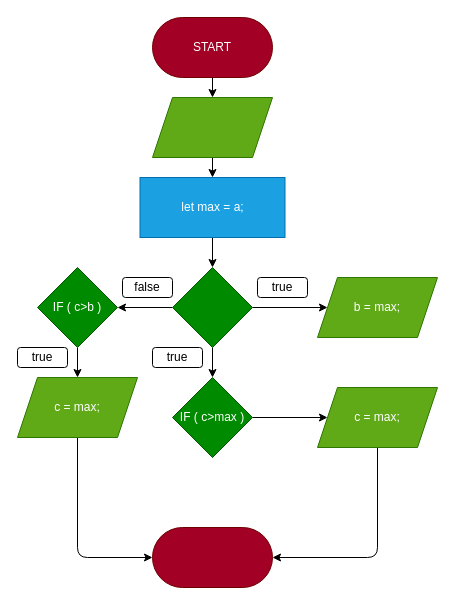
The diagram is 455 pixels wide and 605 high, and some of its shapes have lost their labels. The centre of each missing label's shape, as x and y in pixels:
"IF ( b>max )" goes at (212,307).
"input: a,b,c" goes at (212,127).
"STOP" goes at (212,557).
